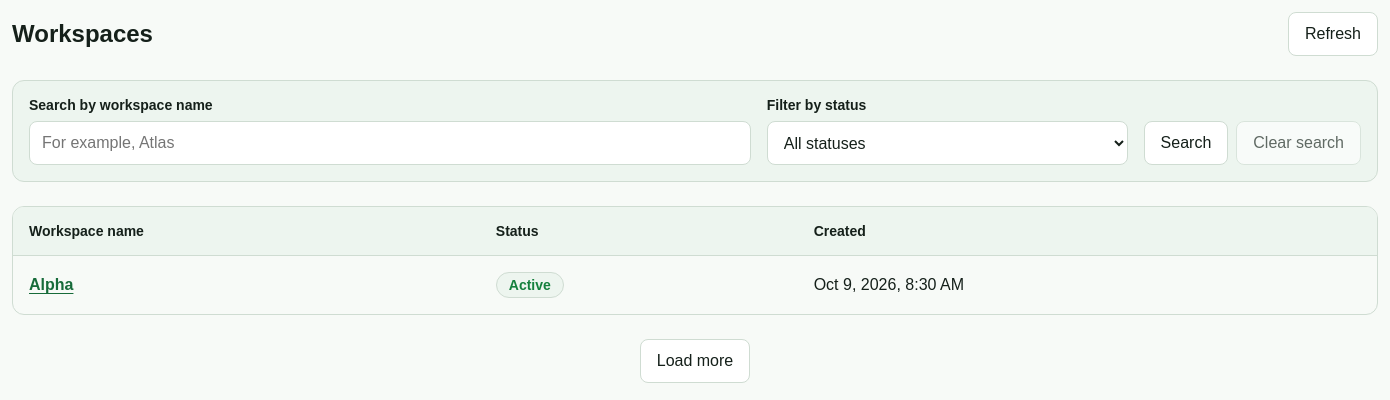
Scenario: Platform workspace directory › loads the exact opaque cursor, appends rows, and stops at the terminal page
Expected: the link "Alpha" is shown, [29,276,74,293]
Click the button "Load more" at (695, 361), box [640,339,750,383]
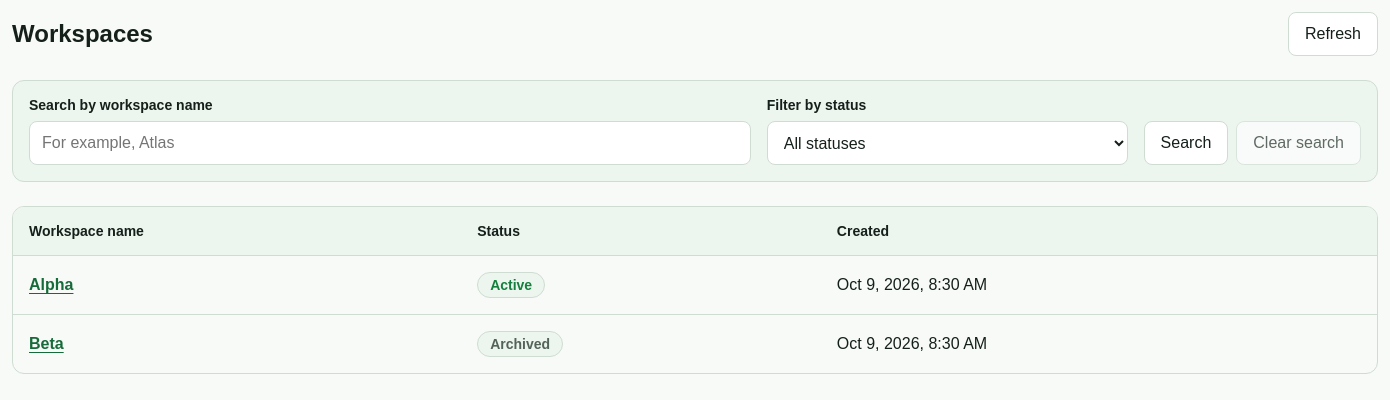
Expected: the link "Beta" is shown, [29,335,64,352]
Expected: the button "Load more" is gone
Expected: the text "Active" is shown 2 times
